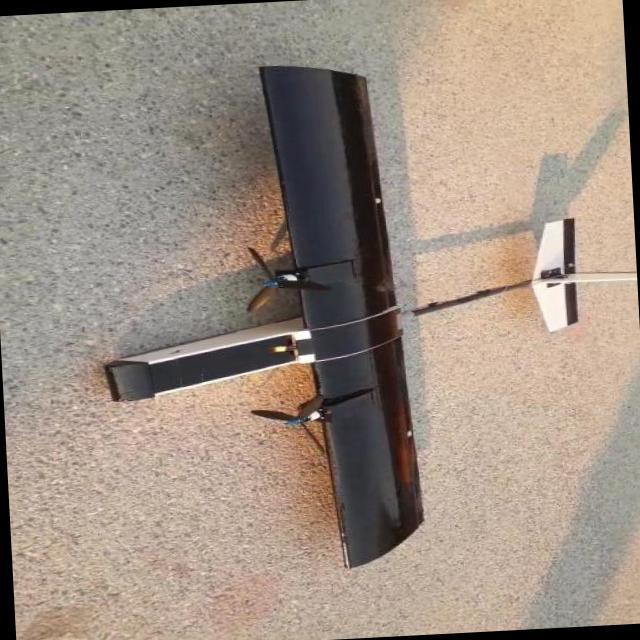iha: (144, 73, 595, 560)
